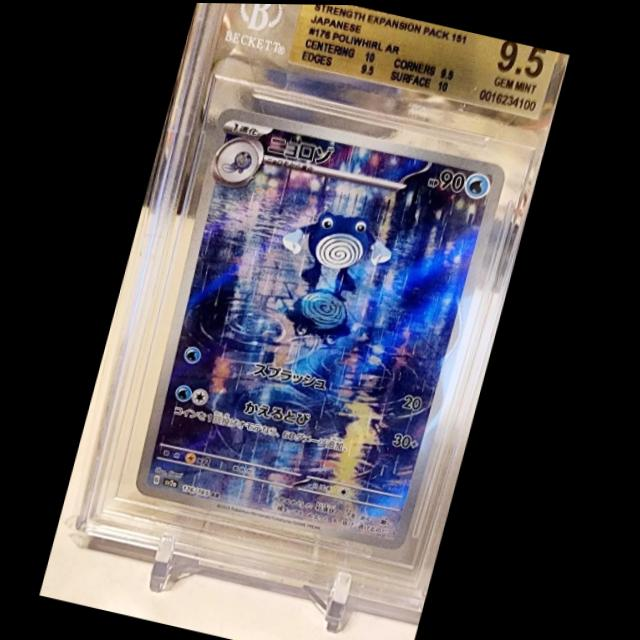bgs_label: (285, 3, 558, 118)
bgs_slab: (76, 2, 569, 611)
card: (136, 103, 509, 552)
